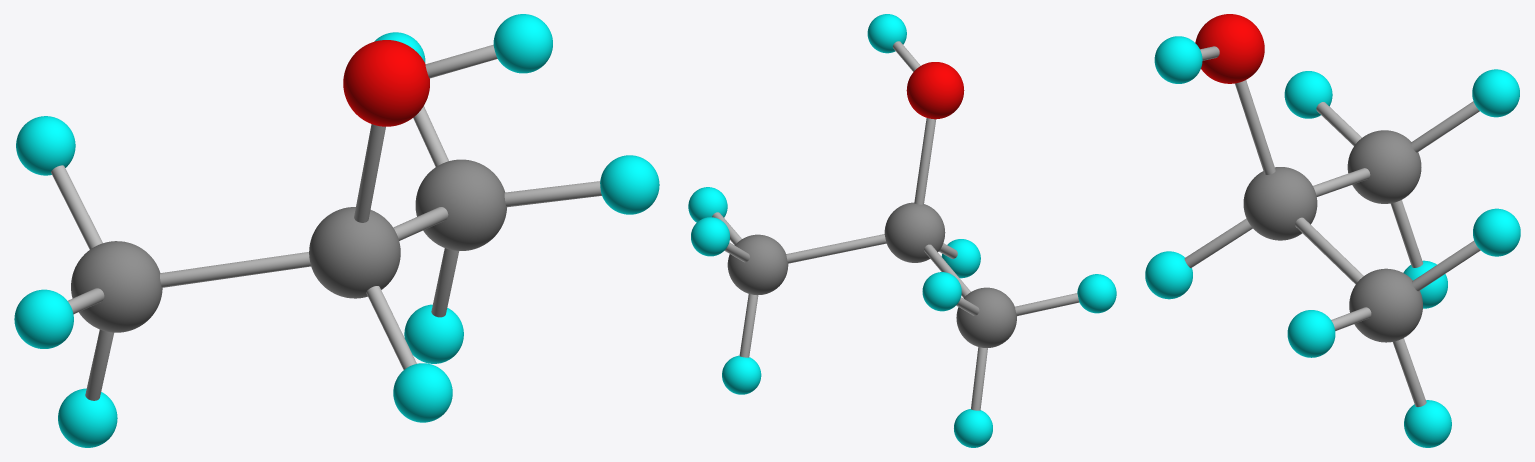
File: 2-propanol.glb
3 renders of one model, left to right at view 1: azimuth 30°, elevation 25°; view 2: azimuth 150°, elevation 25°; view 3: azimuth 270°, elevation 25°, orthographic. The views are drawn at different scales.
Visible parts, largest first — view 1: CMAtom_9, CMAtom_1, CMAtom_0, CMAtom_2, CMAtom_6, CMAtom_10, CMAtom_4, CMAtom_8, CMAtom_3, CMAtom_5, CMAtom_7, CMBond_7_Segment_0 (+9 smaller); view 2: CMAtom_9, CMAtom_1, CMAtom_0, CMAtom_2, CMAtom_3, CMAtom_4, CMAtom_11, CMAtom_7, CMAtom_5, CMAtom_8, CMBond_8_Segment_0, CMAtom_6 (+6 smaller); view 3: CMAtom_9, CMAtom_0, CMAtom_1, CMAtom_2, CMAtom_6, CMAtom_3, CMAtom_8, CMAtom_11, CMAtom_10, CMAtom_7, CMAtom_4, CMBond_10_Segment_0 (+10 smaller).
Part boxes in pixels (x1=…): CMAtom_9: x1=309, y1=207, x2=400, y2=298; CMAtom_1: x1=415, y1=159, x2=506, y2=250; CMAtom_0: x1=71, y1=241, x2=162, y2=332; CMAtom_2: x1=343, y1=40, x2=429, y2=126; CMAtom_6: x1=600, y1=155, x2=659, y2=214; CMAtom_10: x1=393, y1=363, x2=452, y2=422; CMAtom_4: x1=14, y1=289, x2=73, y2=348; CMAtom_8: x1=493, y1=14, x2=552, y2=73; CMAtom_3: x1=16, y1=116, x2=75, y2=175; CMAtom_5: x1=58, y1=388, x2=117, y2=447; CMAtom_7: x1=404, y1=304, x2=463, y2=363; CMBond_7_Segment_0: x1=160, y1=252, x2=310, y2=287; CMAtom_9: x1=884, y1=202, x2=945, y2=262; CMAtom_1: x1=727, y1=234, x2=788, y2=295; CMAtom_0: x1=956, y1=287, x2=1016, y2=347; CMAtom_2: x1=906, y1=62, x2=964, y2=119; CMAtom_3: x1=922, y1=272, x2=961, y2=311; CMAtom_4: x1=1077, y1=274, x2=1116, y2=313; CMAtom_11: x1=691, y1=217, x2=729, y2=256; CMAtom_7: x1=722, y1=355, x2=761, y2=394; CMAtom_5: x1=954, y1=409, x2=992, y2=447; CMAtom_8: x1=867, y1=14, x2=906, y2=53; CMBond_8_Segment_0: x1=786, y1=234, x2=886, y2=263; CMAtom_6: x1=688, y1=187, x2=727, y2=222; CMAtom_9: x1=1243, y1=167, x2=1317, y2=240; CMAtom_0: x1=1347, y1=130, x2=1421, y2=203; CMAtom_1: x1=1349, y1=268, x2=1422, y2=342; CMAtom_2: x1=1195, y1=14, x2=1264, y2=83; CMAtom_6: x1=1287, y1=310, x2=1335, y2=357; CMAtom_3: x1=1472, y1=69, x2=1519, y2=117; CMAtom_8: x1=1154, y1=36, x2=1202, y2=83; CMAtom_11: x1=1473, y1=208, x2=1520, y2=256; CMAtom_10: x1=1145, y1=251, x2=1192, y2=299; CMAtom_7: x1=1404, y1=400, x2=1451, y2=447; CMAtom_4: x1=1284, y1=71, x2=1332, y2=118; CMBond_10_Segment_0: x1=1235, y1=80, x2=1275, y2=174.
Size of the model in its own units: 4.96 by 3.51 by 3.14.
